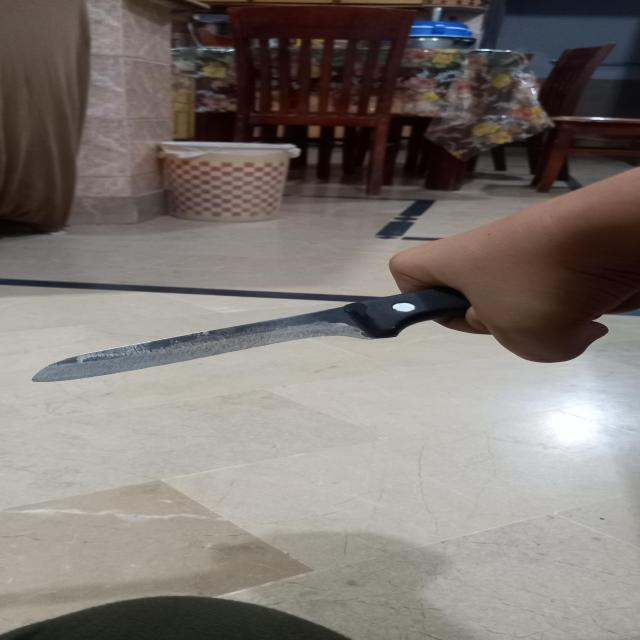Knife: (31, 284, 473, 382)
Person: (395, 162, 640, 363)
